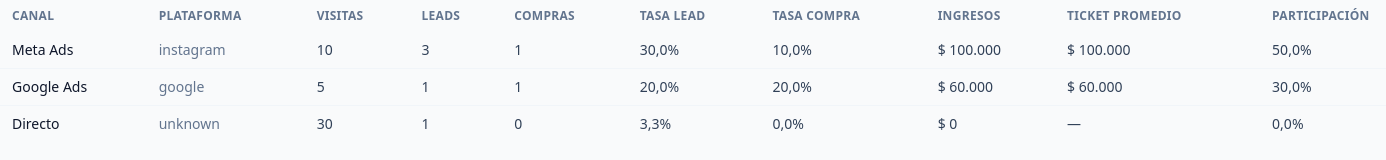
Test: ChannelTable › sorts by any column and toggles the direction
This screenshot has width=1386, height=160.
Later steps or results of the test are not shown.
Click the button "Visitas": (340, 16) [317,8,364,24]
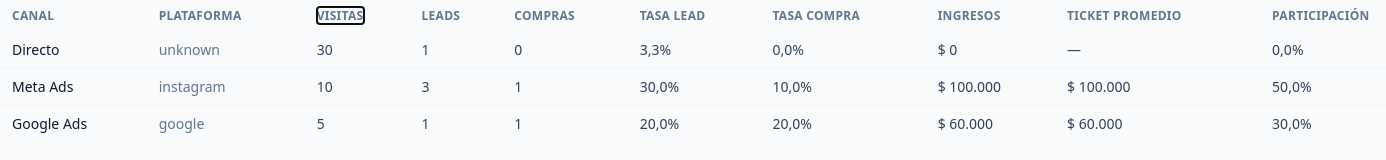
Expected: the column heading "Visitas" has attribute aria-sort="descending", [305,0,409,32]
